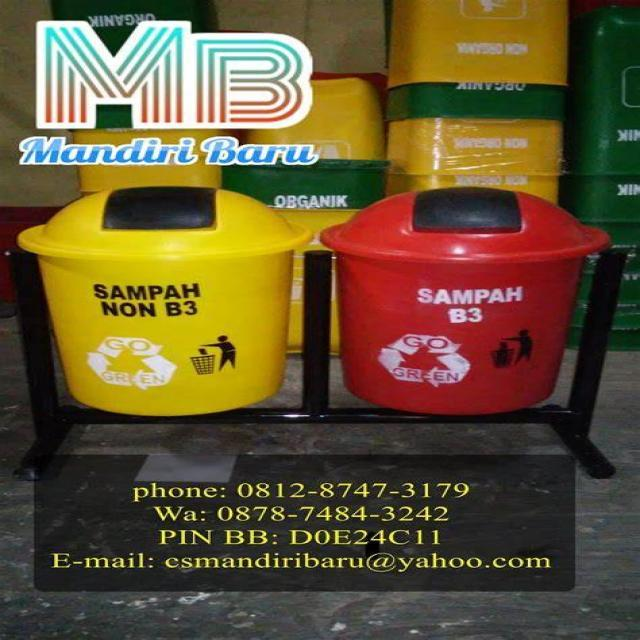garbage container: (0, 168, 351, 444), (331, 164, 640, 441)
